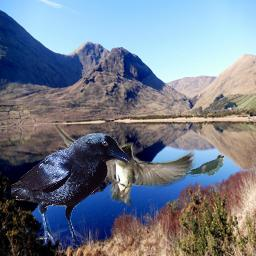Crow: (11, 133, 130, 248)
Cuckoo: (171, 154, 224, 178)
Swallow: (52, 122, 197, 209)
